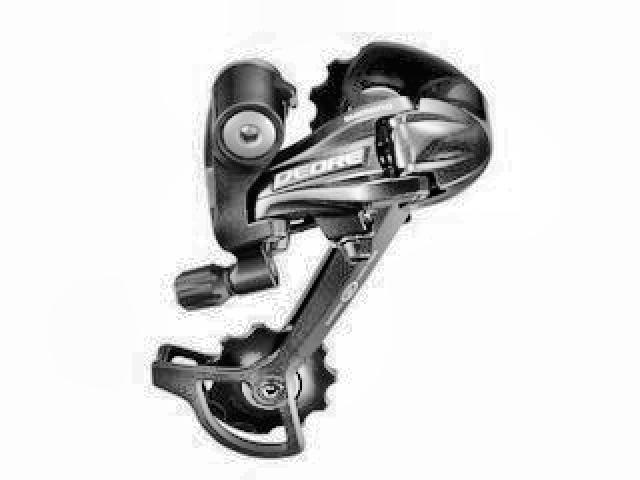rear_derailleur: (146, 39, 497, 464)
